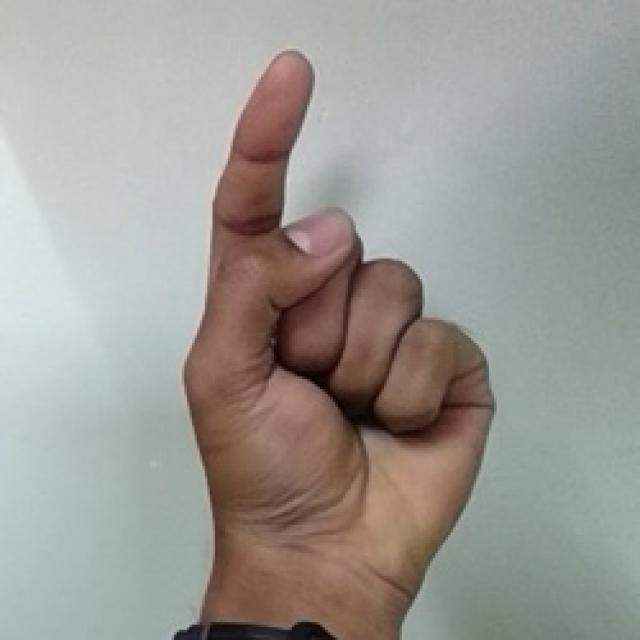Numeric-1: (179, 51, 496, 592)
